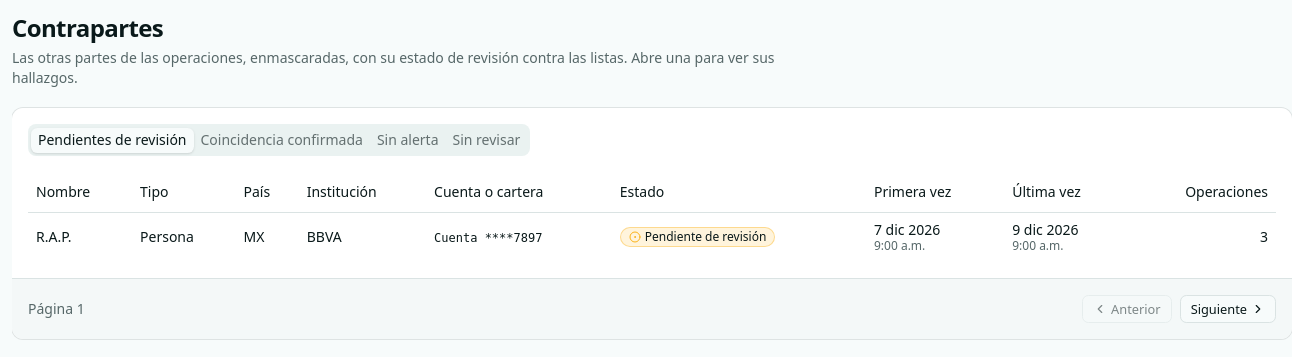
Scenario: CounterpartiesPage › switching tab asks for that status and shows a wallet-only row by its kind
Click the tab "Sin alerta". click: [408, 140]
box: [370, 128, 446, 152]
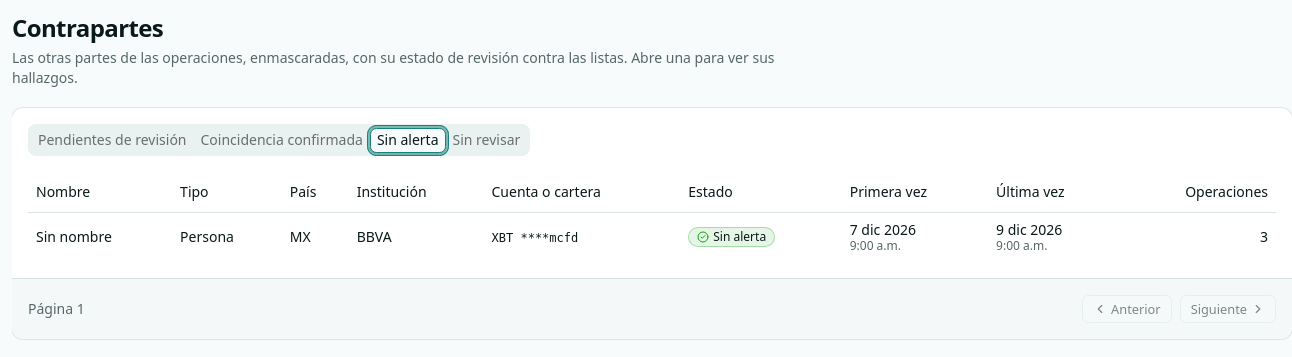
Check: the link "Sin nombre" is shown, box [36, 227, 112, 246]
Check: the text "XBT ****mcfd" is shown, box [492, 231, 578, 245]
